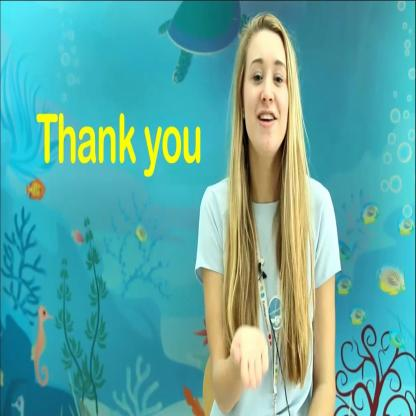ThankYou: (193, 7, 315, 416)
